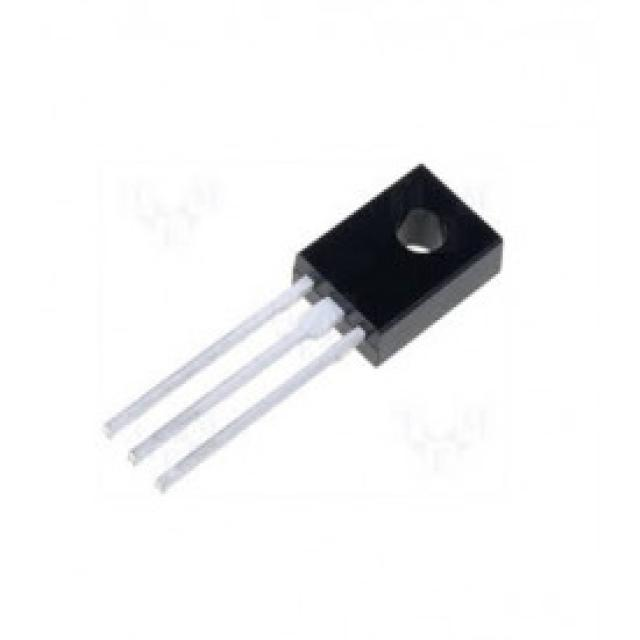Transistor: (98, 161, 497, 496)
